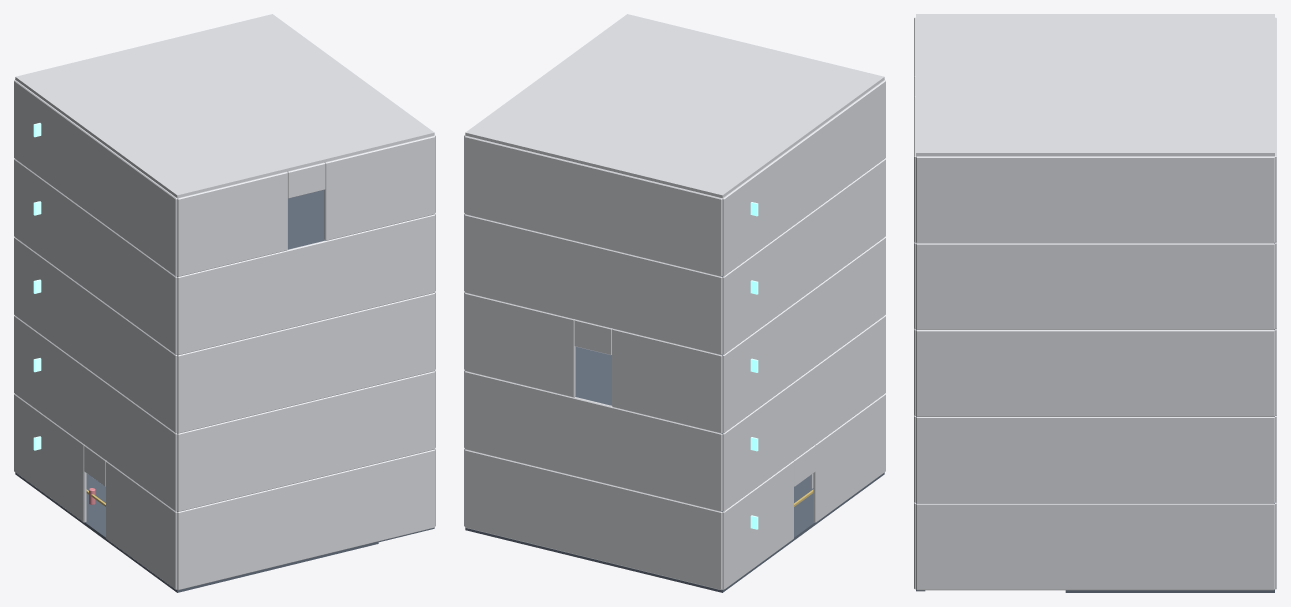
Rendered from stairwell-fwd.glb.
3 renders of one model, left to right at view 1: azimuth 30°, elevation 25°; view 2: azimuth 150°, elevation 25°; view 3: azimuth 270°, elevation 25°, orthographic. The views are drawn at different scales.
Parts seen in each view (by area): view 1: CM_BULKHEAD, CM_DECK, CM_NEON_CYAN; view 2: CM_BULKHEAD, CM_DECK, CM_NEON_CYAN; view 3: CM_BULKHEAD, CM_DECK.
Part boxes in pixels (x1,y1,x2,y2): CM_BULKHEAD: (14,14,435,590); CM_DECK: (15,190,434,592); CM_NEON_CYAN: (33,123,41,450); CM_BULKHEAD: (464,14,885,590); CM_DECK: (465,276,884,592); CM_NEON_CYAN: (750,202,758,529); CM_BULKHEAD: (914,14,1276,590); CM_DECK: (916,243,1274,592).
Size of the model in its own units: 11.42 by 16.24 by 12.14.
